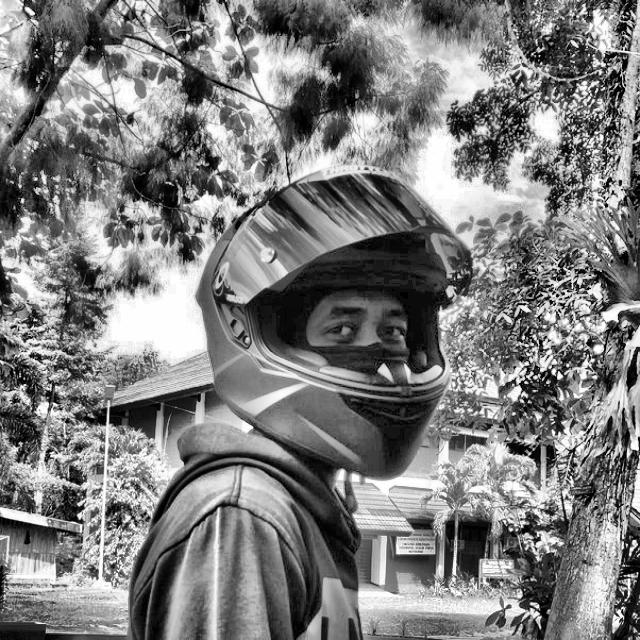Helmet: (190, 169, 471, 485)
